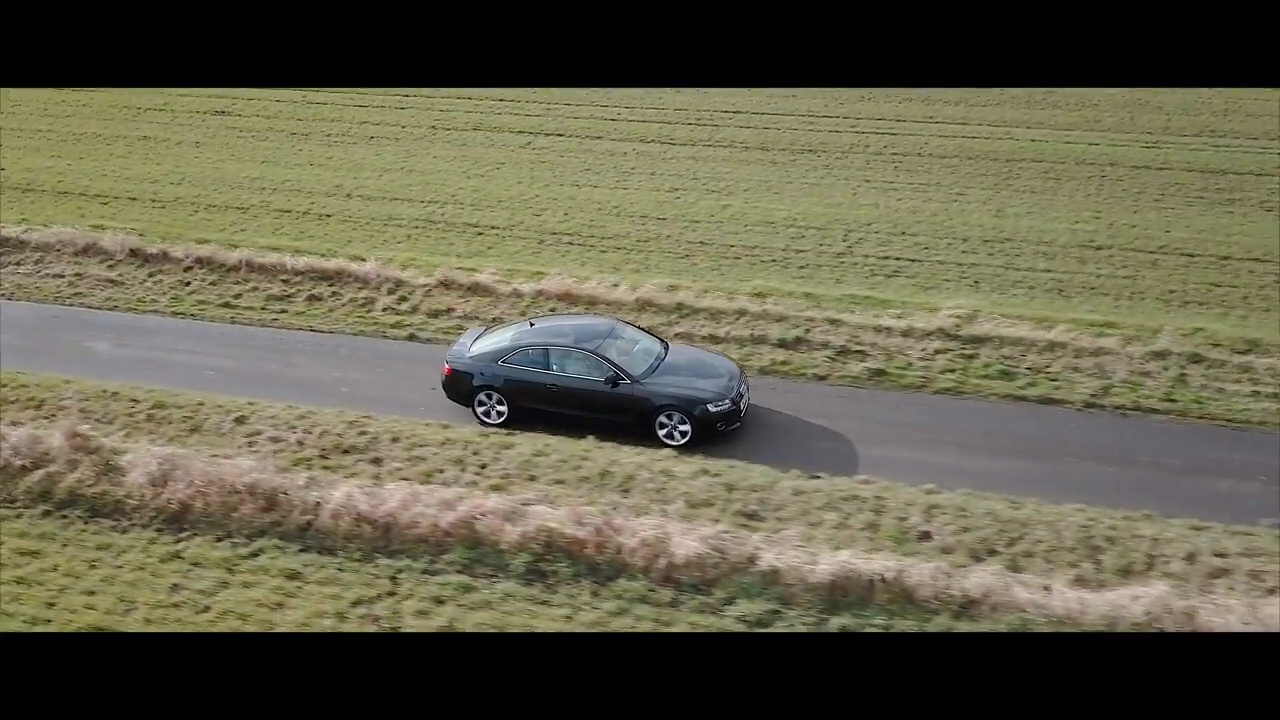araba: (439, 306, 754, 456)
